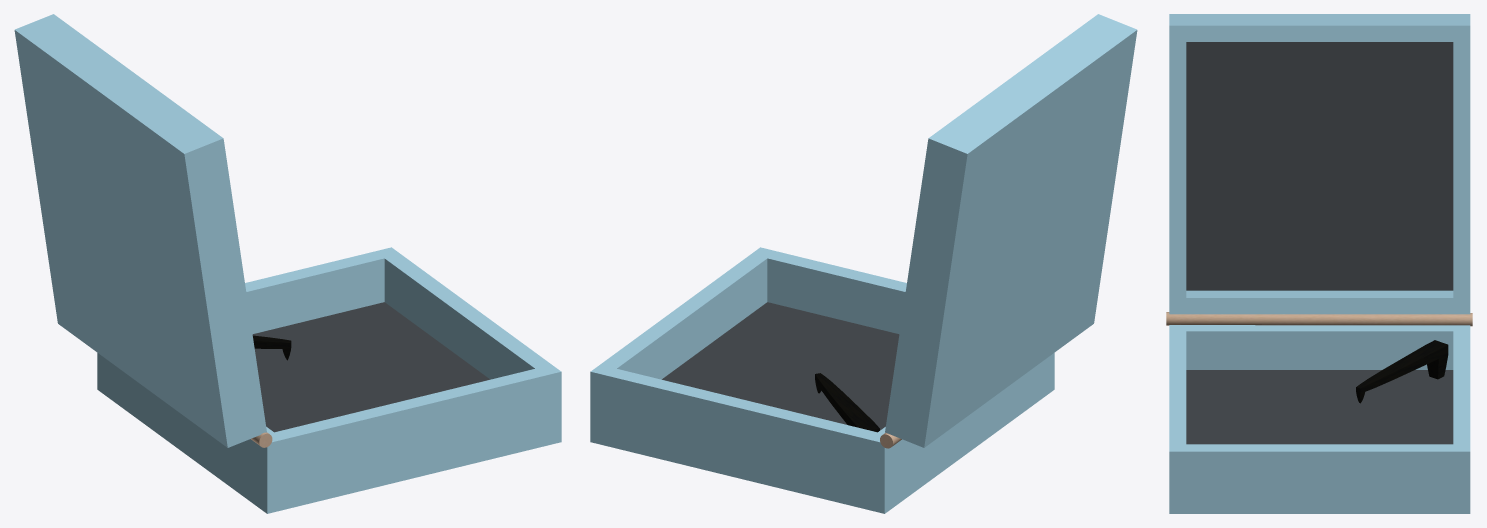
File: LP player.fbx
The picture shows the model from 3 angles, left to right: view 1: azimuth 30°, elevation 25°; view 2: azimuth 150°, elevation 25°; view 3: azimuth 270°, elevation 25°; orthographic projection. The views are drawn at different scales.
Parts seen in each view (by area): view 1: pCube4; view 2: pCube4; view 3: pCube4.
Boxes of the visible parts, x1,y1,x2,y2 form: pCube4: (14, 14, 561, 513); pCube4: (590, 14, 1137, 513); pCube4: (1166, 14, 1472, 513).
Size of the model in its own units: 2.52 by 2.46 by 2.
Materials: 4 (4 with a texture image).
